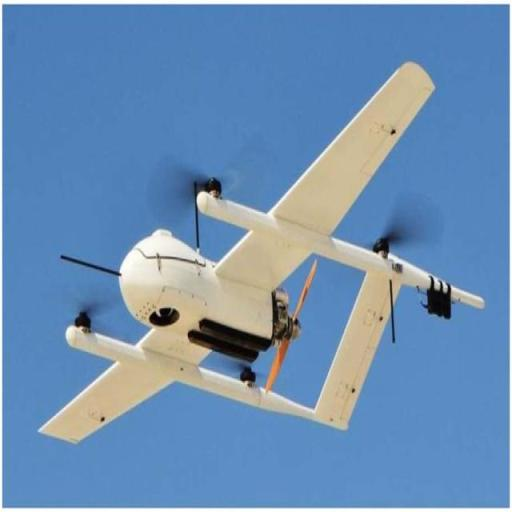uav: (34, 52, 492, 456)
